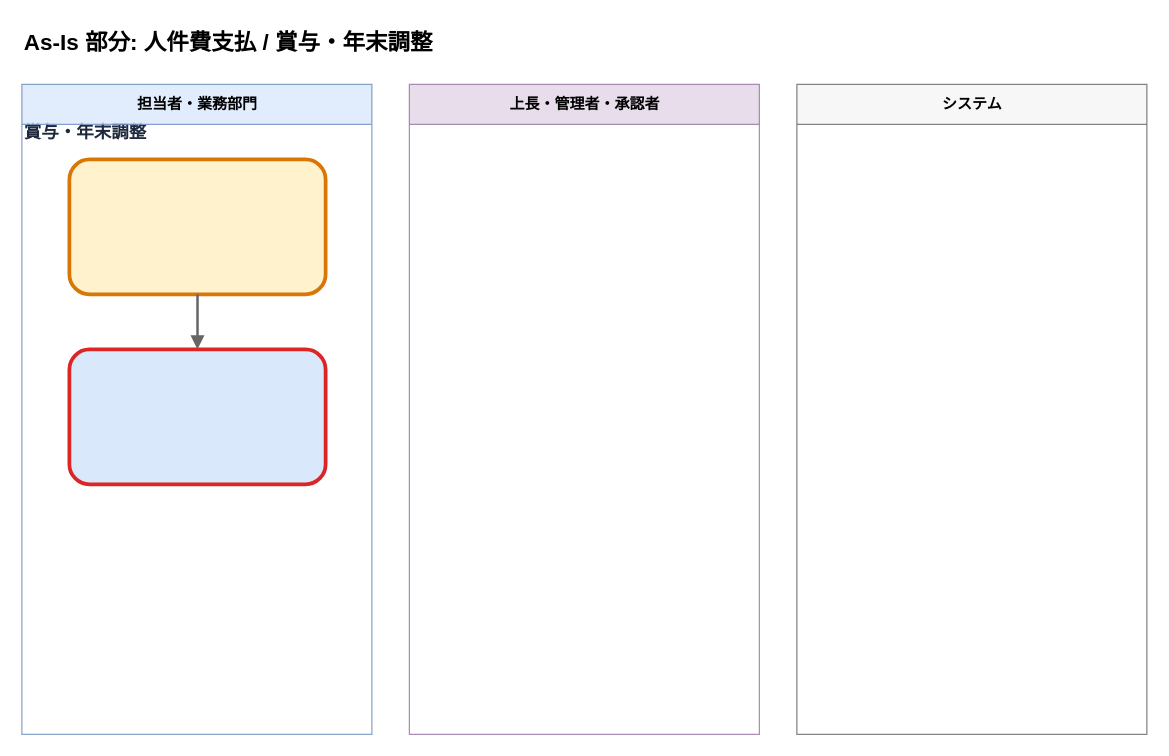
This 1169x756 diagram has some shape labels left out. Each missing label, with the centre of its shape:
"1. 賞与支給額計算 共通: 計算・作成 45分 / 負担: 高 【要確認】質問: 賞与計算の基準・承認資料を確認したい。 / 回答例: 担当者が作成し、会計…" belongs at [197,226].
"2. 年末調整処理 共通: 計算・作成 90分 / 負担: 高" belongs at [197,416].
